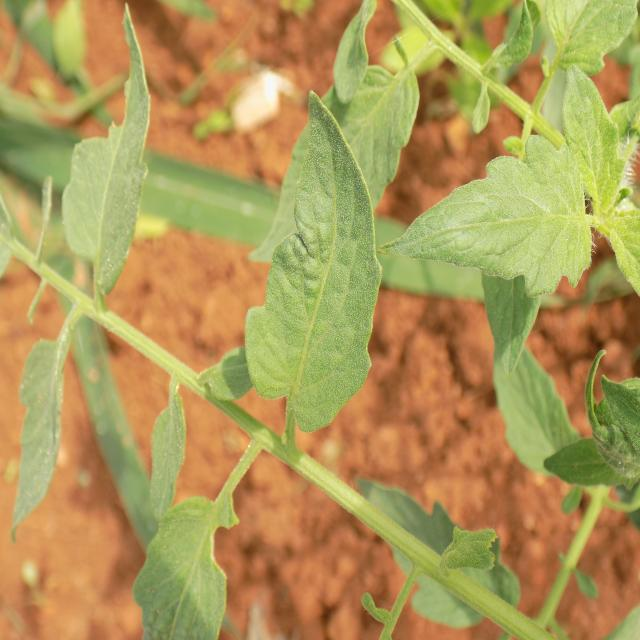tomato_healthy: (247, 89, 383, 439), (390, 134, 595, 298)
